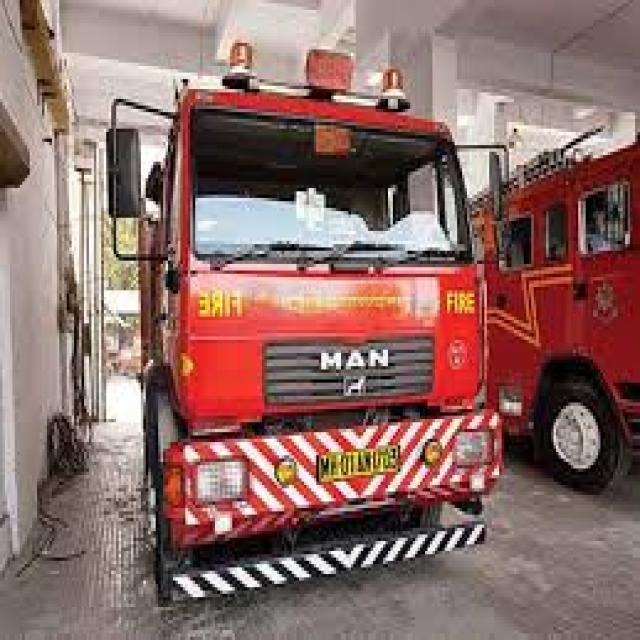Fire_brigade: (96, 72, 522, 600)
